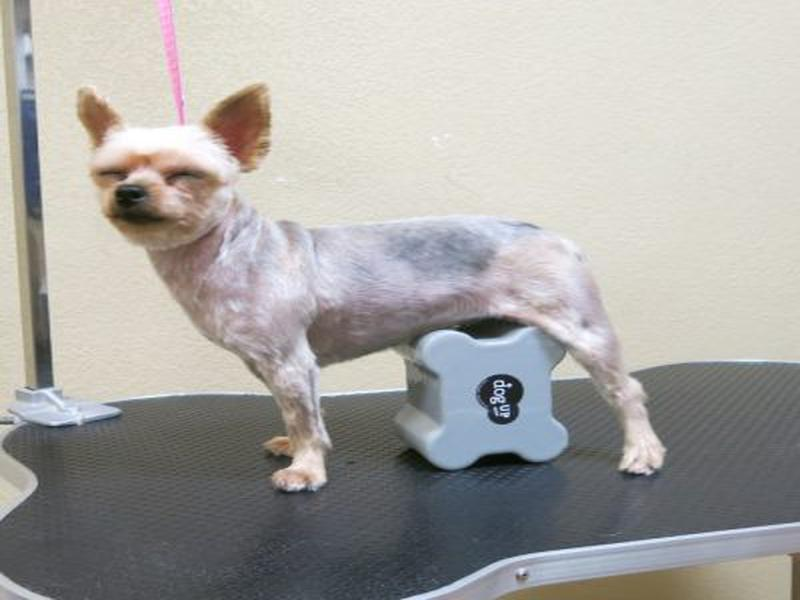dog_stand: (72, 77, 673, 492)
